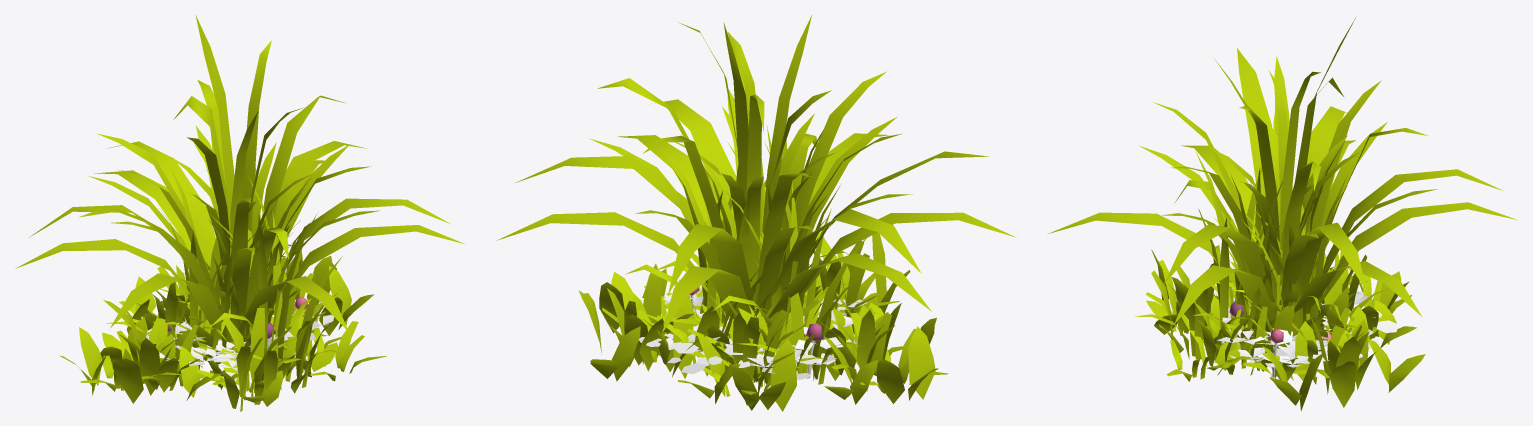
Rendered from g_grass.glb.
The picture shows the model from 3 angles, left to right: view 1: azimuth 30°, elevation 25°; view 2: azimuth 150°, elevation 25°; view 3: azimuth 270°, elevation 25°; orthographic projection. The views are drawn at different scales.
Parts seen in each view (by area): view 1: v1, v0, v8, v2, v4, v10, v11, v3, v9; view 2: v1, v0, v8, v4, v2, v12, v3, v10, v11, v5, v9; view 3: v1, v0, v8, v2, v4, v3, v10, v9, v11, v5, v12.
Part boxes in pixels (x1,y1,x2,y2): v1: (29,15,451,323); v0: (15,126,465,342); v8: (59,252,373,406); v2: (106,164,344,389); v4: (80,266,387,411); v10: (152,301,333,381); v11: (166,296,333,376); v3: (160,188,304,352); v9: (153,295,318,365); v1: (515,15,989,314); v0: (496,89,1016,332); v8: (579,263,938,411); v4: (602,232,948,406); v2: (625,130,866,384); v12: (639,309,835,379); v3: (657,126,829,345); v10: (639,285,875,367); v11: (640,287,862,378); v5: (657,253,818,367); v9: (684,286,822,382); v1: (1153,18,1502,304); v0: (1047,111,1516,328); v8: (1146,238,1425,411); v2: (1134,144,1389,368); v4: (1145,250,1411,388); v3: (1217,167,1369,340); v10: (1214,283,1368,367); v9: (1205,293,1354,378); v11: (1214,283,1362,377); v5: (1211,257,1358,341); v12: (1228,291,1398,363).
Bounding box in the file's own units: 1.77 × 1.55 × 1.91.
